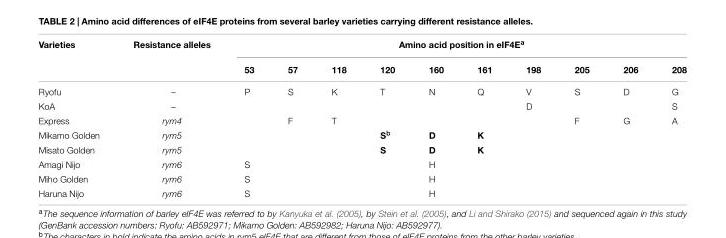table: (37, 37, 686, 198)
table column: (115, 37, 226, 198), (37, 37, 115, 198), (313, 37, 362, 198), (362, 37, 411, 198), (459, 37, 508, 198), (508, 37, 557, 198), (605, 37, 654, 198), (411, 37, 459, 198), (557, 37, 605, 198), (226, 37, 270, 198), (270, 37, 313, 198), (654, 37, 686, 198)
table column header: (37, 37, 686, 79)
table row: (37, 56, 686, 79), (37, 37, 686, 56), (37, 79, 686, 98), (37, 126, 686, 141), (37, 141, 686, 156), (37, 170, 686, 185), (37, 98, 686, 112), (37, 112, 686, 126), (37, 156, 686, 170), (37, 185, 686, 198)
table spanning cell: (226, 37, 686, 56), (115, 37, 226, 79), (37, 37, 115, 79)
